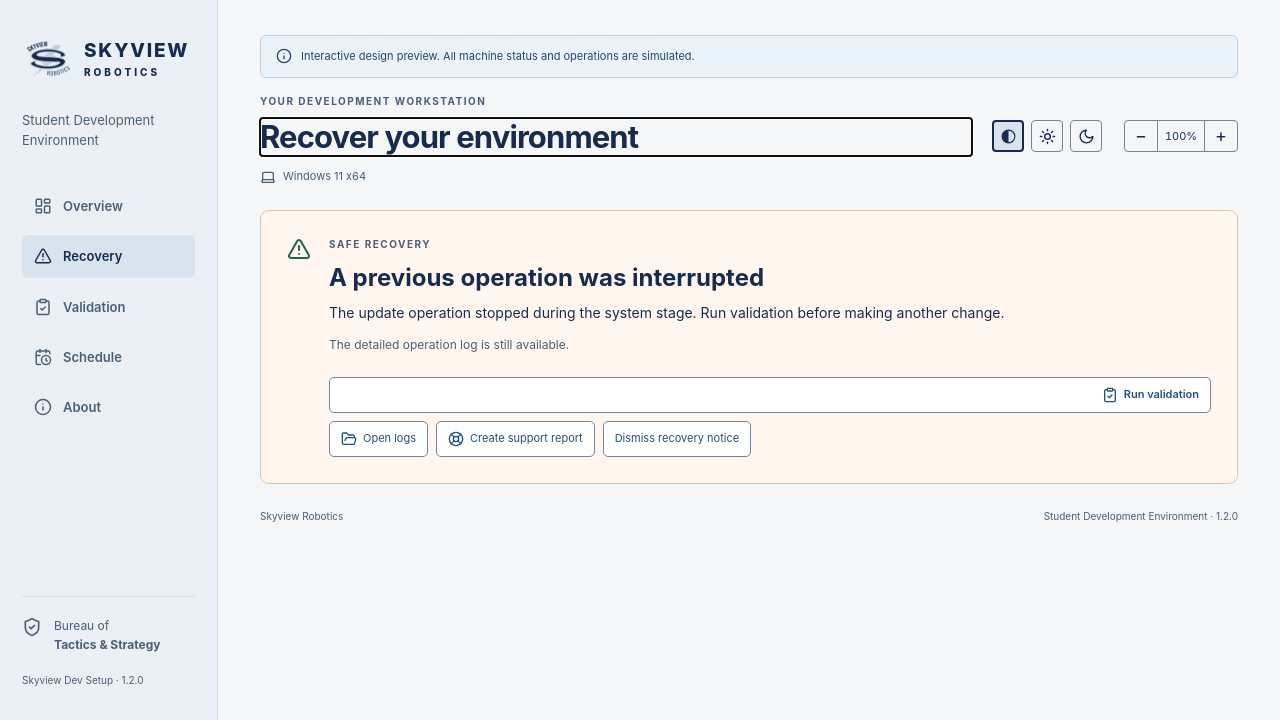
directs an interrupted operation through fresh validation
Expected: the heading "A previous operation was interrupted" is shown, [329,263,764,292]
Click the button "Run validation" at (1161, 394), box [329,377,1211,413]
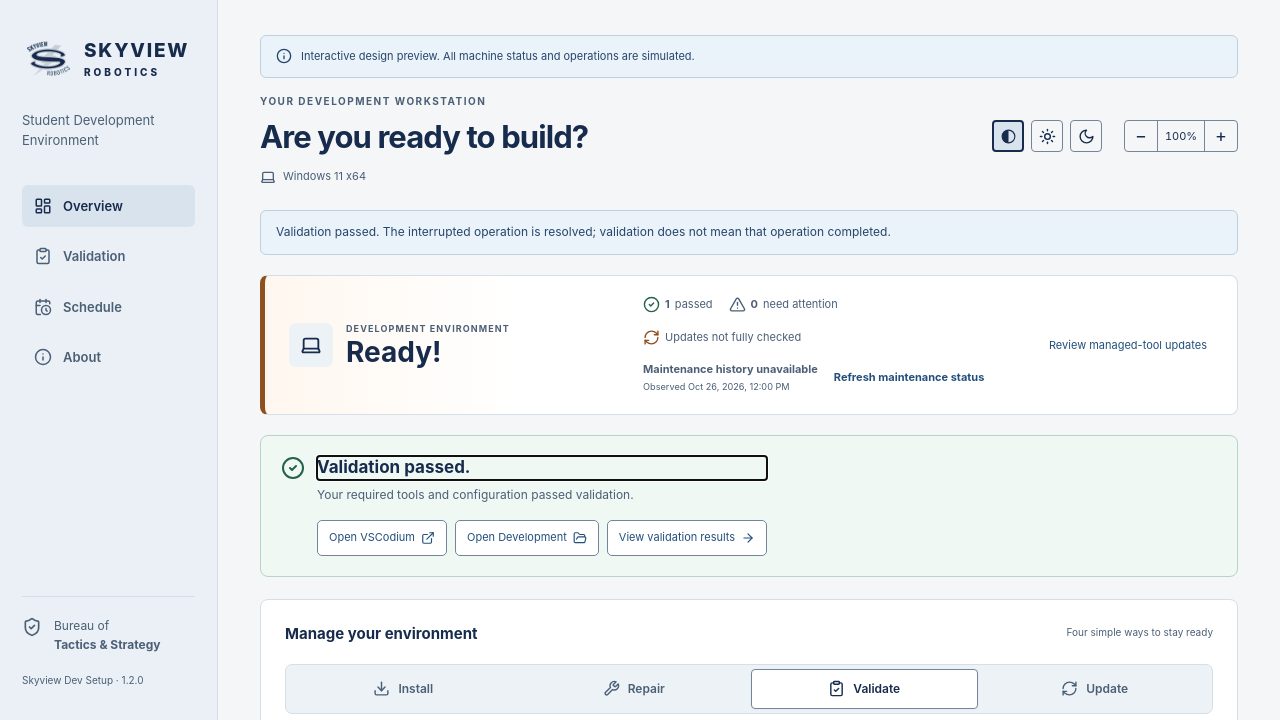
Result: the heading "Ready!" is shown at [346,335,442,369]
Result: the text "does not mean that operation completed" is shown at [276,224,891,239]
